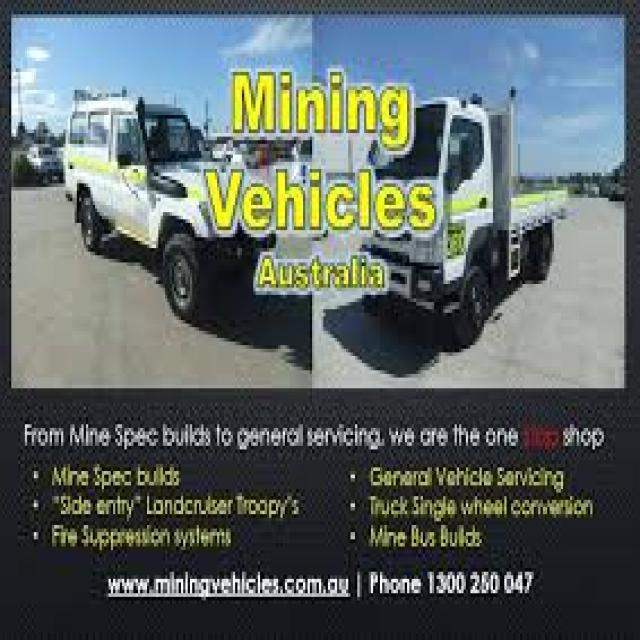dump_truck: (340, 50, 574, 352)
light_vehicle: (59, 50, 278, 320)
